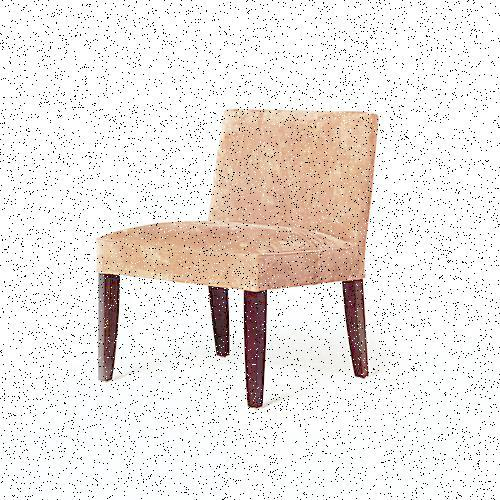Silla: (95, 109, 385, 410)
